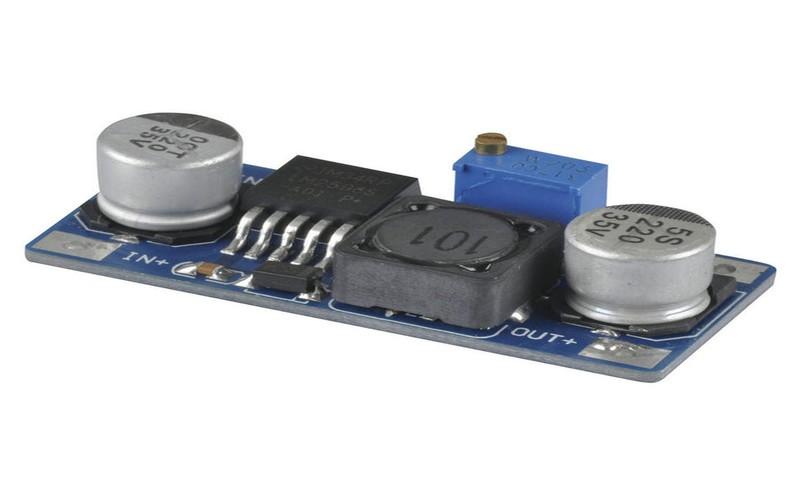Regulator: (29, 63, 754, 380)
